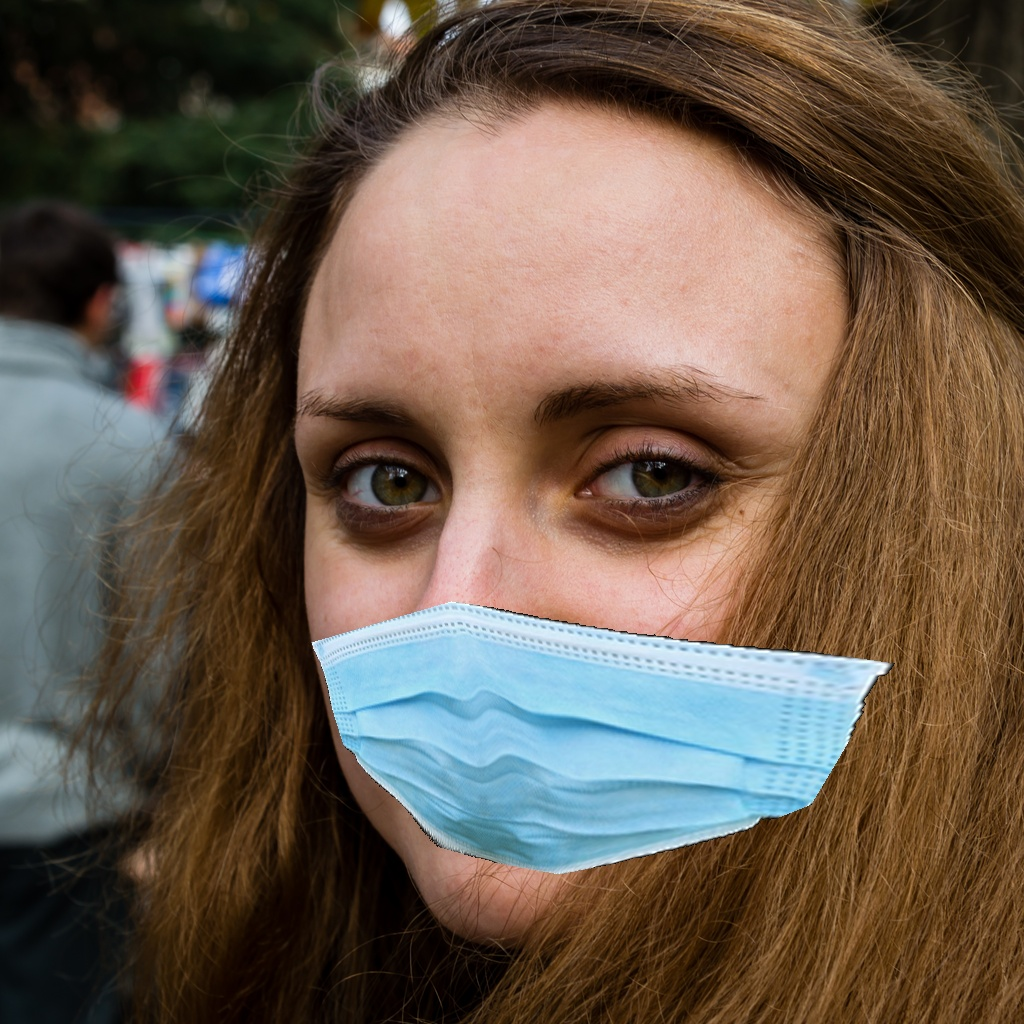mask_weared_incorrect: (267, 345, 902, 959)
